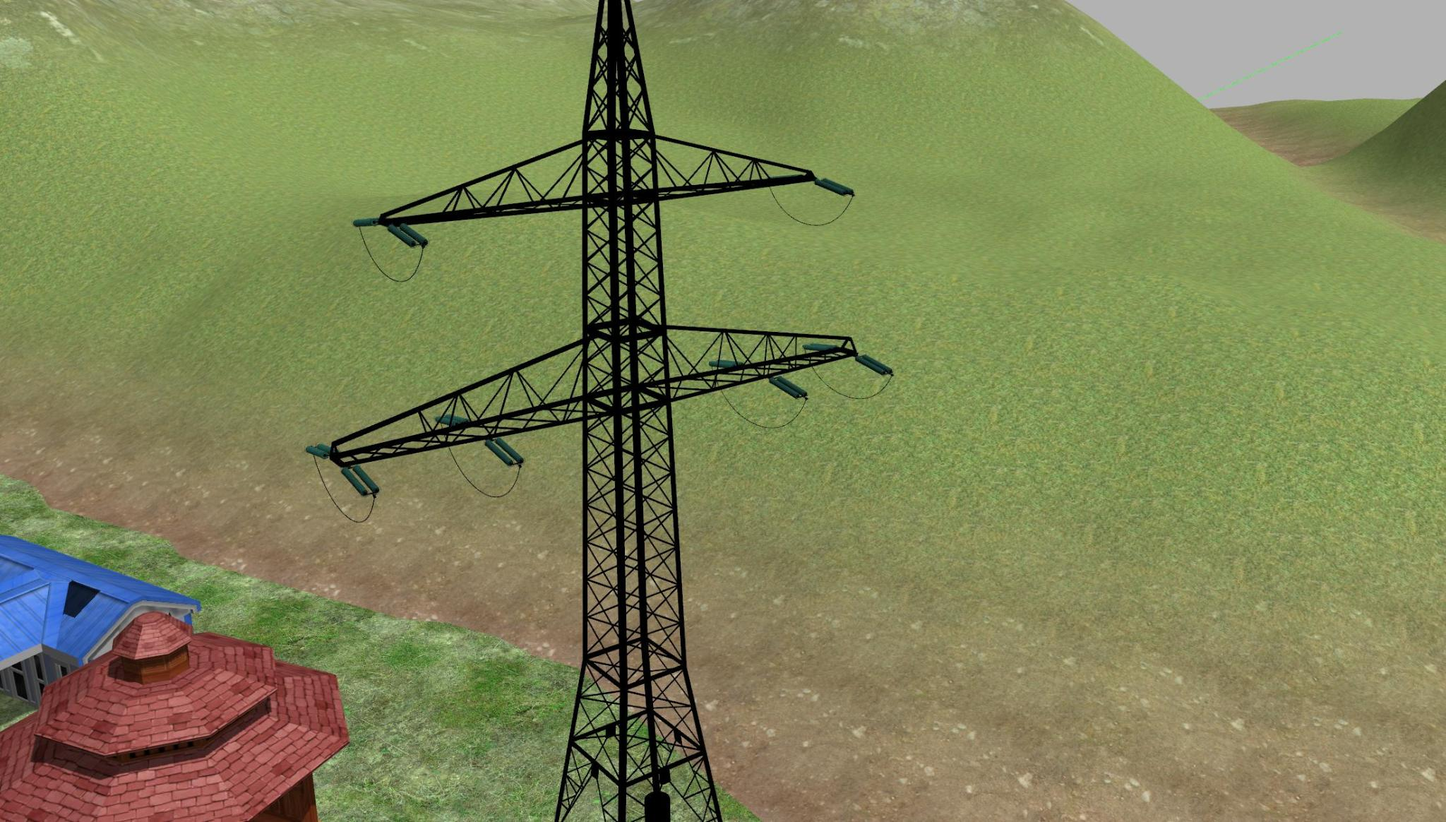tower: (329, 4, 841, 822)
